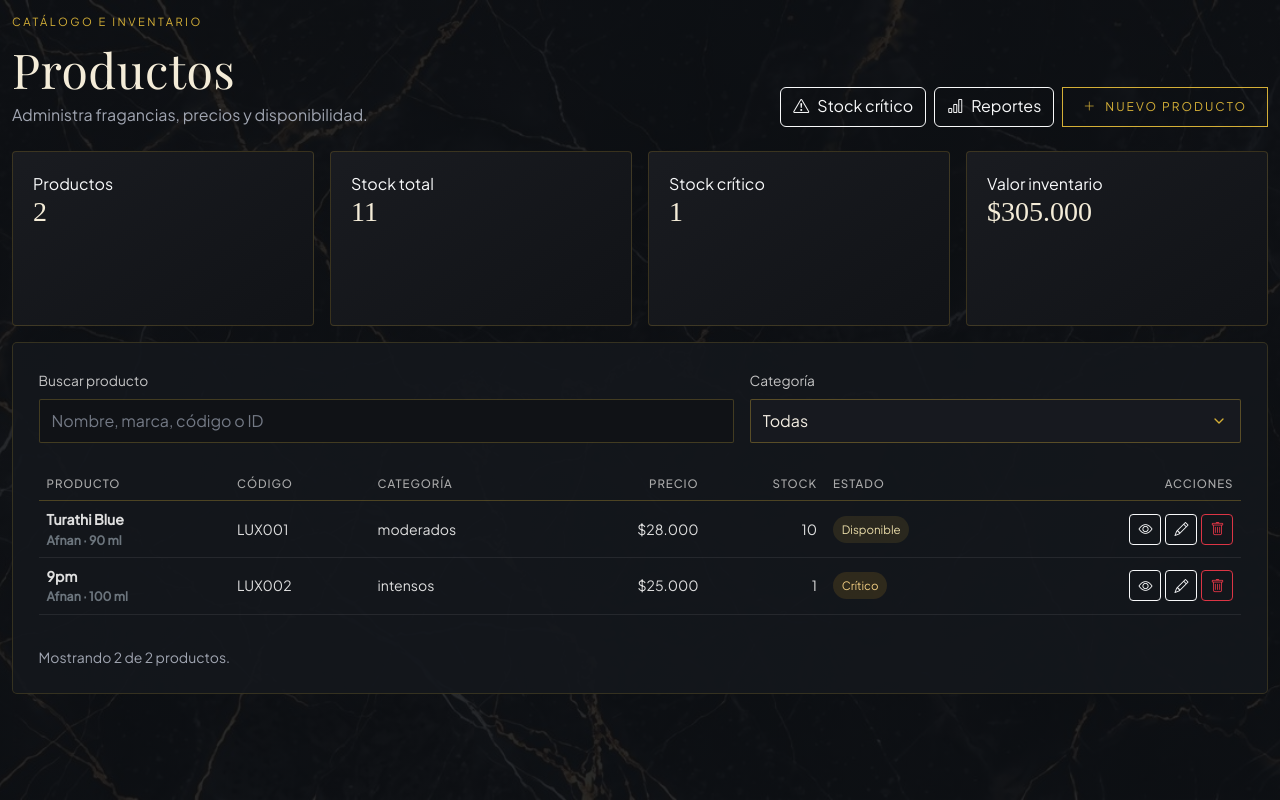
ProductosAdmin › filtra el listado al escribir en la búsqueda
Expected: the text "Turathi Blue" is shown, x1=47 y1=510 x2=124 y2=528
Type "9pm" into the field labelled "Buscar producto" at (386, 421), box x1=39 y1=399 x2=734 y2=443
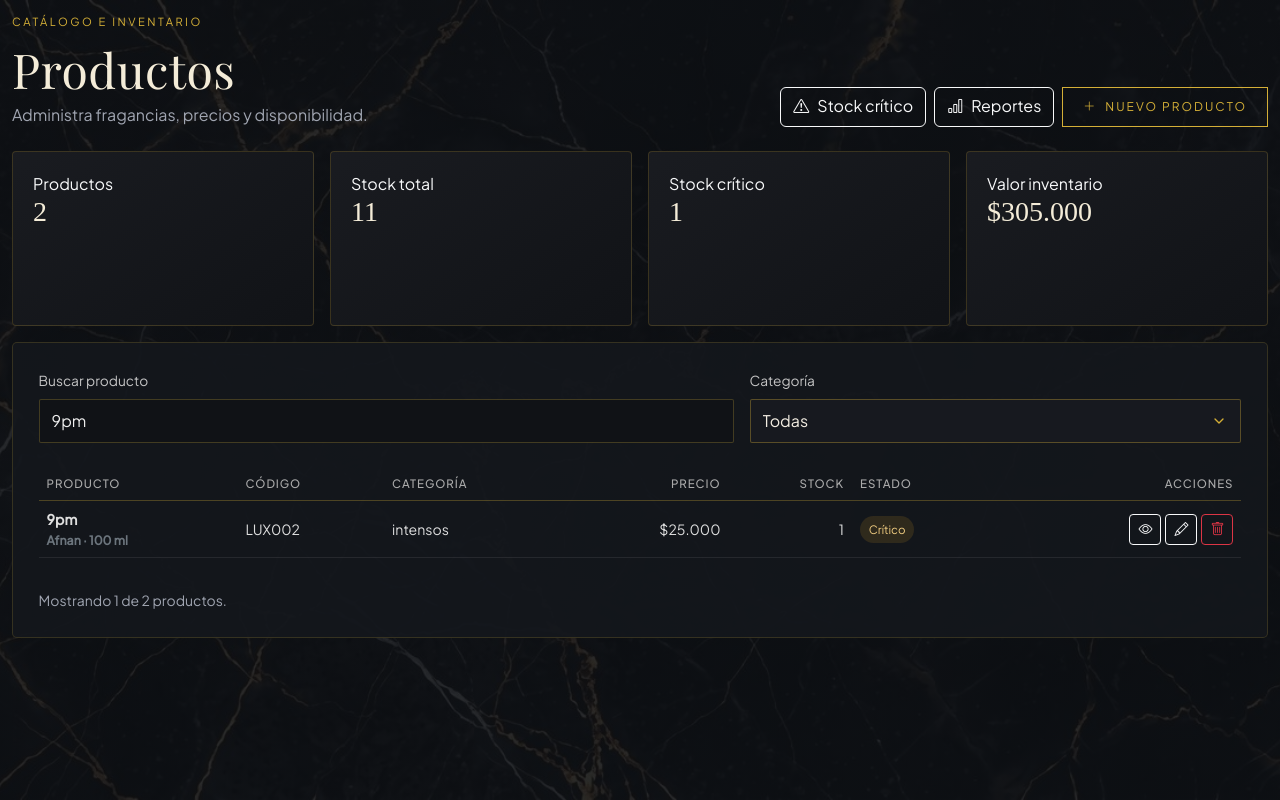
Expected: the text "9pm" is shown, x1=47 y1=510 x2=77 y2=528
Expected: the text "Turathi Blue" is gone
